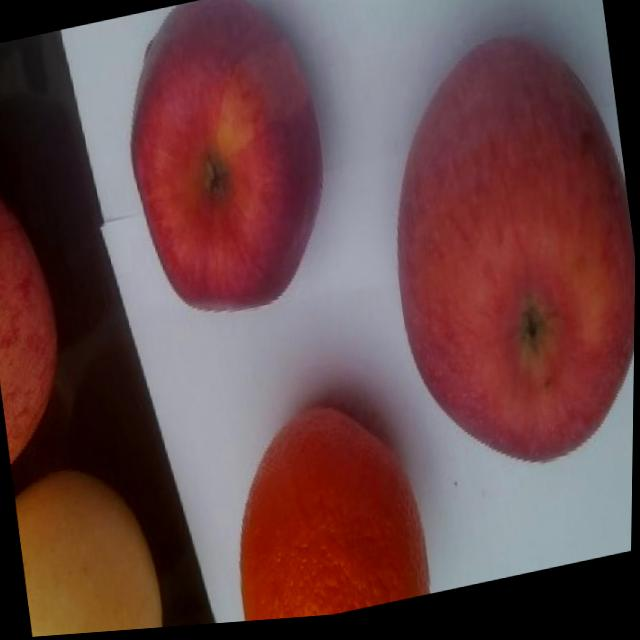Apple: (366, 20, 639, 497), (110, 0, 345, 332), (0, 161, 78, 466)
Orange: (219, 390, 438, 627)
